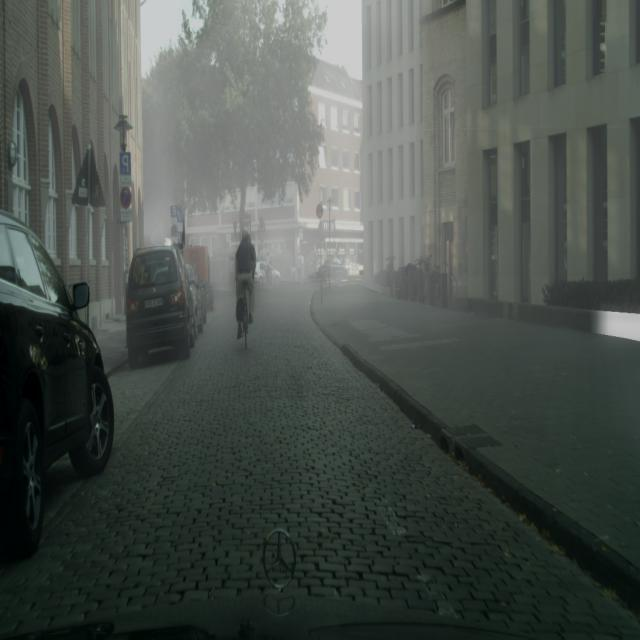car: (237, 291, 249, 348)
person: (236, 231, 255, 328)
truck: (0, 209, 115, 558), (125, 244, 197, 369), (185, 264, 205, 332), (316, 256, 348, 281)
